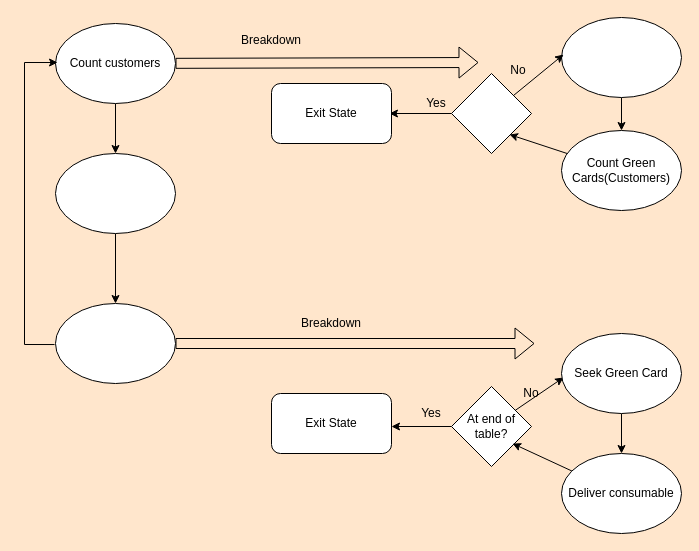
The diagram is 699 pixels wide and 551 high, and some of its shapes have lost their labels. Each missing label, with the centre of its shape:
"Deliver to customers" belongs at (x=115, y=343).
"Is the bot at the loader?" belongs at (x=491, y=113).
"Load Consumables for customers" belongs at (x=115, y=193).
"Move towards Load area" belongs at (x=621, y=57).
